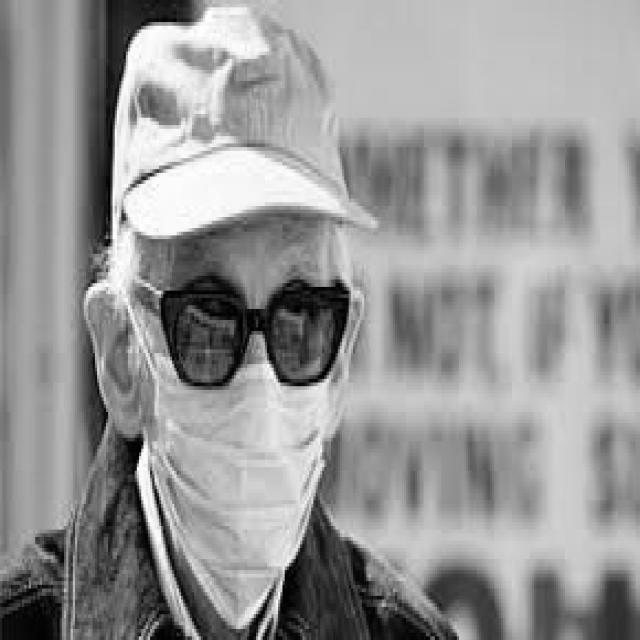fake: (151, 359, 330, 626), (155, 276, 353, 388)
real: (139, 223, 353, 603)
